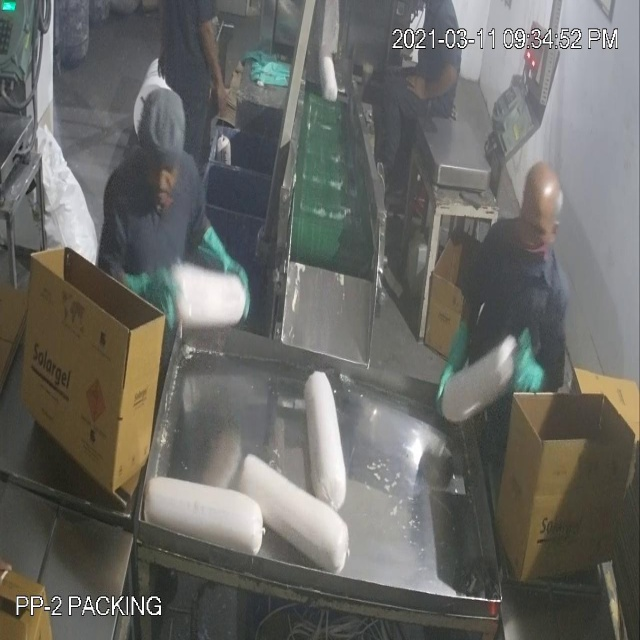Sin_guantes: (205, 209, 250, 320), (197, 17, 234, 124), (405, 61, 470, 113)
